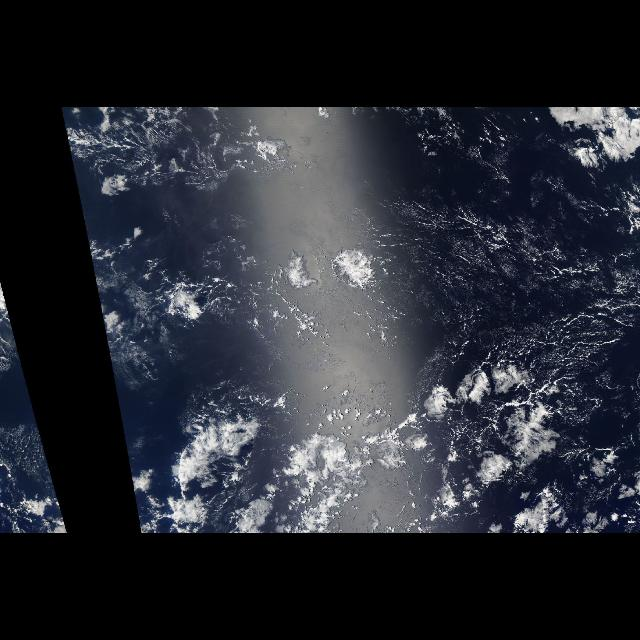Flower: (99, 220, 453, 376)
Sugar: (324, 170, 638, 448)
